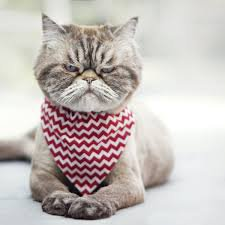cat: (34, 11, 172, 214)
